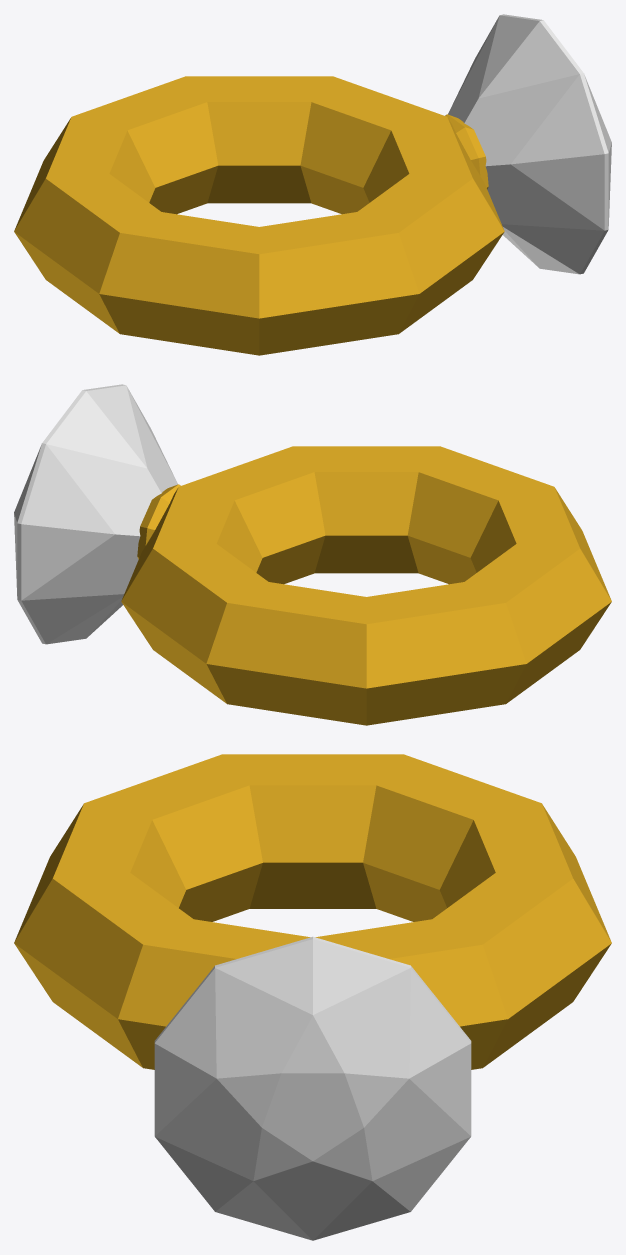
File: ring_model.fbx
3 renders of one model, top to bottom at view 1: azimuth 30°, elevation 25°; view 2: azimuth 150°, elevation 25°; view 3: azimuth 270°, elevation 25°, orthographic. The views are drawn at different scales.
Parts seen in each view (by area): view 1: dobj; view 2: dobj; view 3: dobj.
Part boxes in pixels (box(x1,y1,x2,y2)): dobj: box(14, 14, 611, 355); dobj: box(14, 384, 611, 725); dobj: box(14, 754, 611, 1240).
Bounding box in the file's own units: 334 × 150 × 270.
